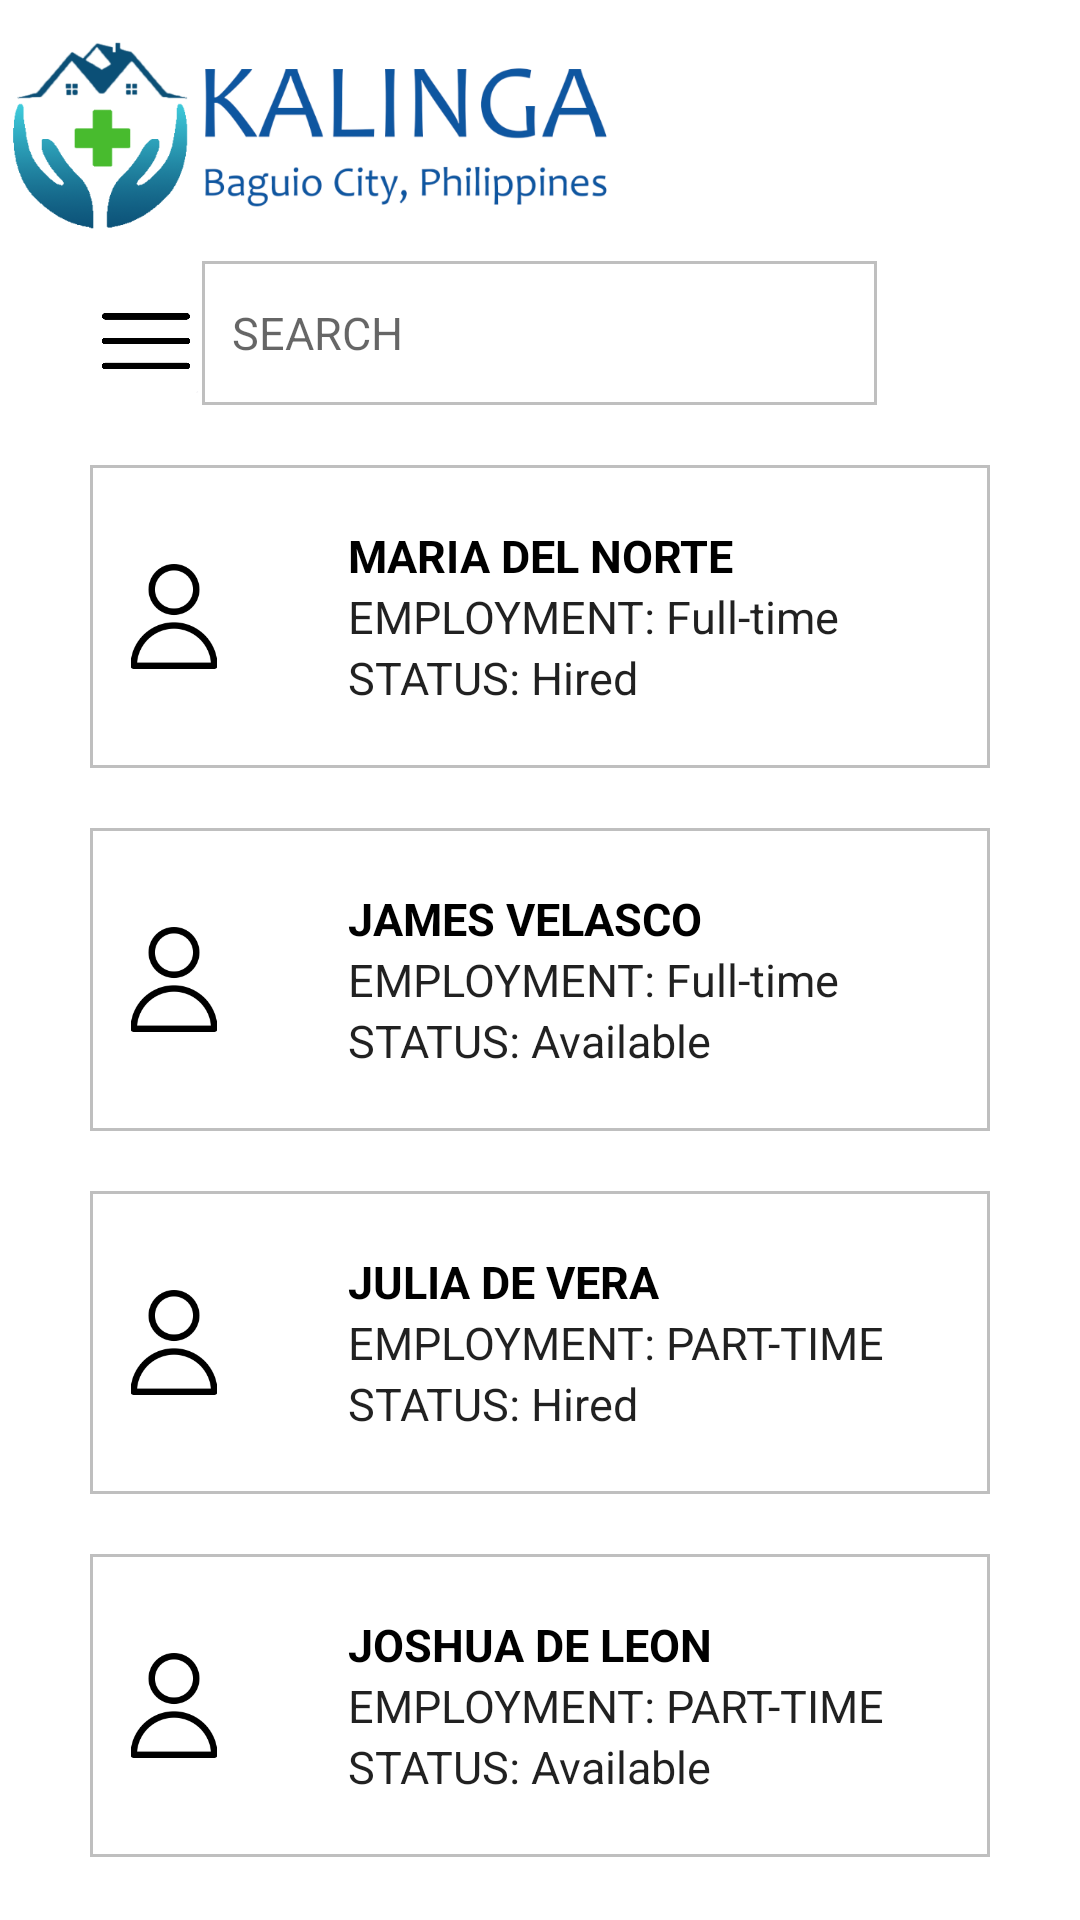

Where to tap for icons on this 1080px×1920px app screen, as (x=x, y=y):
account: (x=174, y=616), (x=174, y=979), (x=174, y=1342), (x=174, y=1705)
burger: (x=146, y=341)
